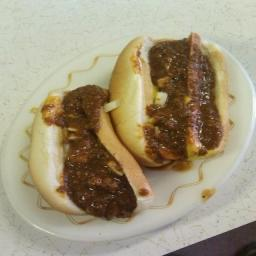hotdog: (173, 30, 214, 160)
